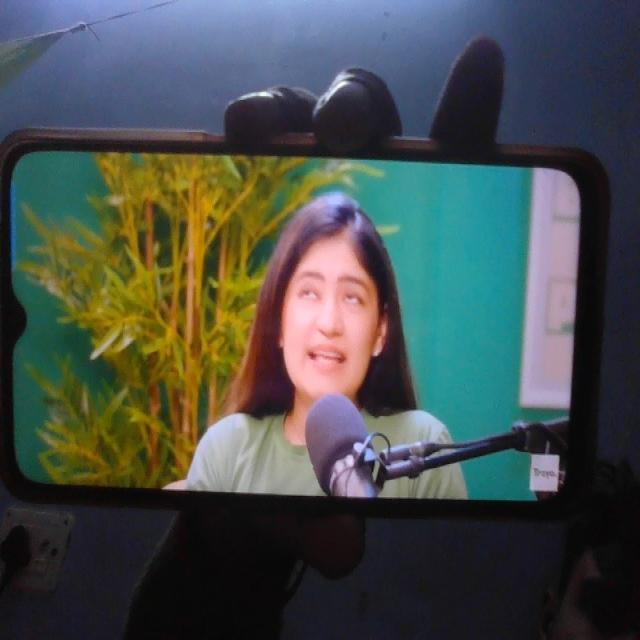fake: (277, 190, 387, 398)
